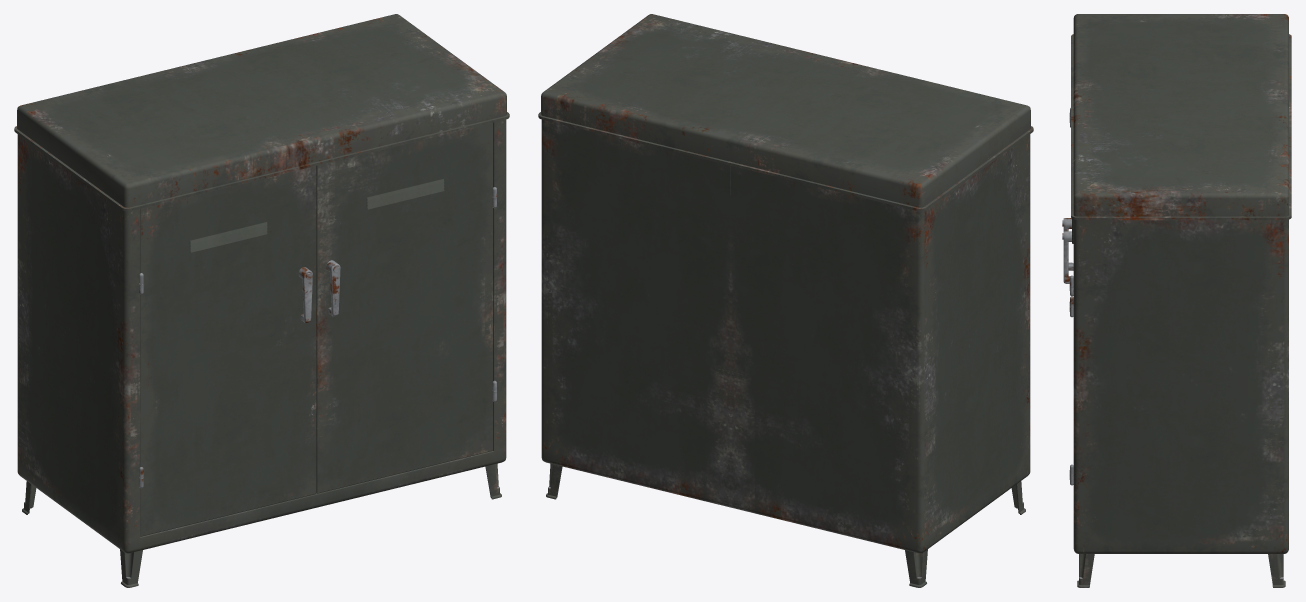
Rendered from metal_cabinet.glb.
The picture shows the model from 3 angles, left to right: view 1: azimuth 30°, elevation 25°; view 2: azimuth 150°, elevation 25°; view 3: azimuth 270°, elevation 25°; orthographic projection. The views are drawn at different scales.
Visible parts, largest first — view 1: porta_001_pintura_0, porta_002_pintura_0, tapa_001_pintura_0, base_001_pintura_0, potes_001_pintura_0; view 2: base_001_pintura_0, tapa_001_pintura_0, potes_001_pintura_0; view 3: base_001_pintura_0, tapa_001_pintura_0, potes_001_pintura_0, nansa_002_pintura_0.
Boxes of the visible parts, <box> form: porta_001_pintura_0: <box>316,123,493,493</box>; porta_002_pintura_0: <box>140,166,316,536</box>; tapa_001_pintura_0: <box>14,14,509,211</box>; base_001_pintura_0: <box>17,119,506,553</box>; potes_001_pintura_0: <box>22,463,501,587</box>; base_001_pintura_0: <box>541,119,1030,553</box>; tapa_001_pintura_0: <box>538,14,1033,211</box>; potes_001_pintura_0: <box>546,463,1025,587</box>; base_001_pintura_0: <box>1073,219,1288,553</box>; tapa_001_pintura_0: <box>1071,14,1291,220</box>; potes_001_pintura_0: <box>1077,554,1285,587</box>; nansa_002_pintura_0: <box>1062,231,1071,283</box>.
Size of the model in its own units: 0.81 by 0.8088 by 0.4263.
1 material, 1 textured.
